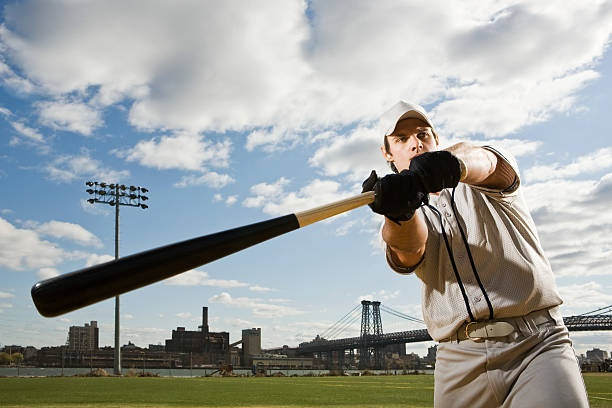bita: (30, 180, 388, 317)
